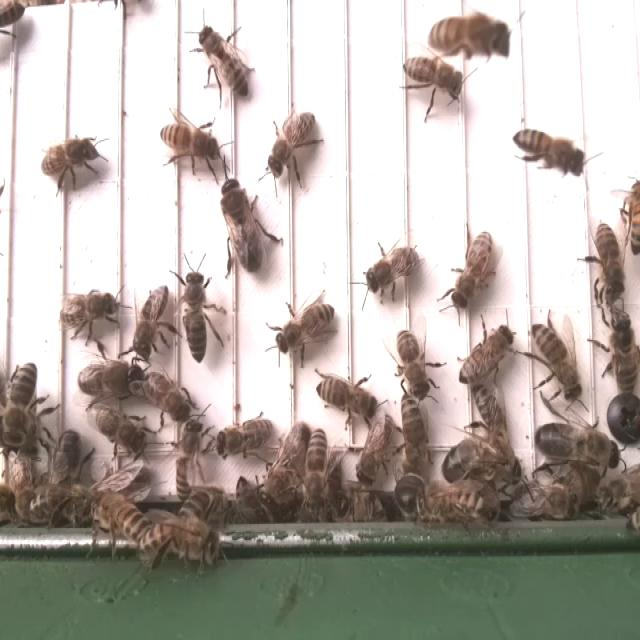Drone: (258, 421, 316, 514), (218, 175, 266, 275), (535, 418, 624, 470), (440, 435, 523, 487), (75, 358, 149, 403), (52, 421, 84, 511)
Worker: (530, 319, 583, 398), (197, 25, 250, 101), (450, 227, 495, 314), (457, 323, 516, 387), (272, 301, 337, 359), (2, 357, 40, 451), (426, 14, 509, 56), (268, 108, 317, 178), (90, 492, 158, 540), (130, 283, 172, 359), (362, 244, 423, 295), (510, 126, 578, 171), (314, 370, 377, 418), (354, 414, 393, 490), (214, 415, 278, 460), (607, 309, 640, 396), (142, 368, 194, 423), (39, 135, 101, 181), (158, 116, 220, 162), (401, 54, 463, 98), (93, 405, 148, 454), (401, 395, 434, 476), (182, 270, 210, 365), (592, 222, 625, 302), (175, 415, 202, 506), (394, 327, 429, 394), (60, 288, 115, 330), (306, 427, 332, 508), (626, 177, 640, 255)
